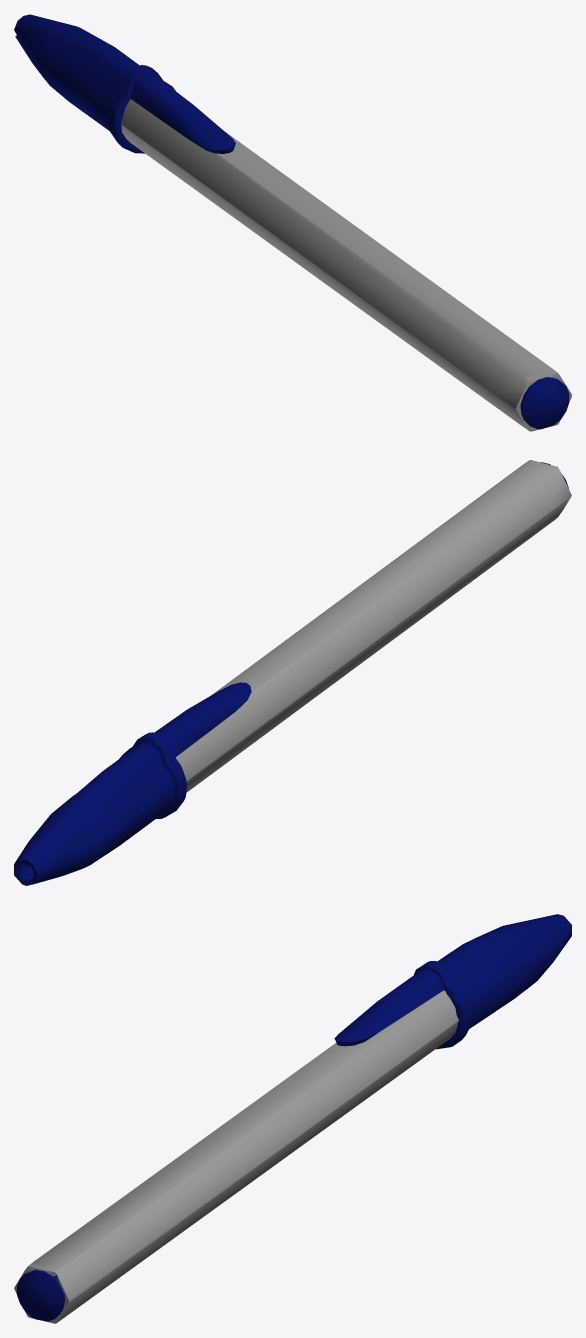
Rendered from Pen 1.FBX.
3 renders of one model, top to bottom at view 1: azimuth 30°, elevation 25°; view 2: azimuth 150°, elevation 25°; view 3: azimuth 330°, elevation 25°, orthographic.
Visible parts, largest first — view 1: Pen 1; view 2: Pen 1; view 3: Pen 1.
Boxes of the visible parts, bbox=[...] form: Pen 1: bbox=[14, 14, 571, 431]; Pen 1: bbox=[14, 460, 571, 885]; Pen 1: bbox=[14, 914, 571, 1323].
Size of the model in its own units: 1.05 by 1.23 by 14.19.
